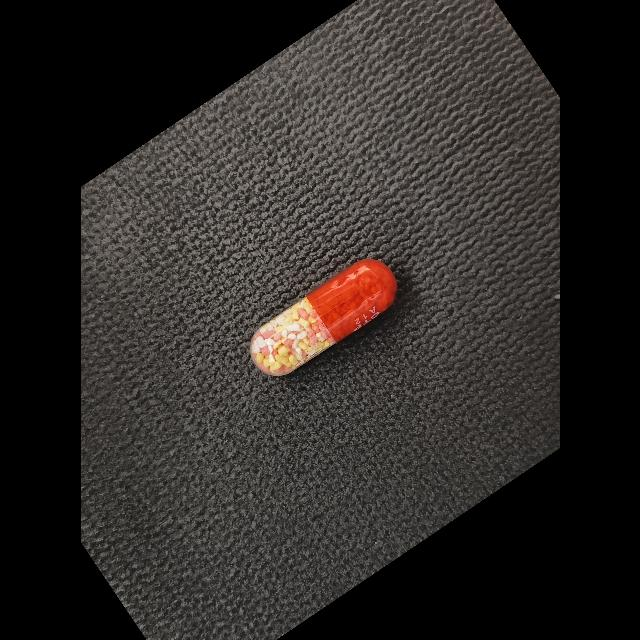Intact Capsule: (249, 259, 397, 376)
